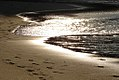human_foot_print: (7, 55, 67, 79), (2, 56, 49, 79), (26, 58, 51, 79), (43, 59, 67, 77), (43, 60, 67, 73), (43, 59, 67, 69), (2, 55, 20, 64), (2, 58, 14, 64), (38, 76, 53, 79), (43, 60, 54, 63), (53, 70, 63, 73), (112, 74, 118, 78), (17, 65, 25, 67), (96, 65, 104, 67), (14, 56, 20, 58), (32, 62, 38, 64), (46, 66, 52, 68)
